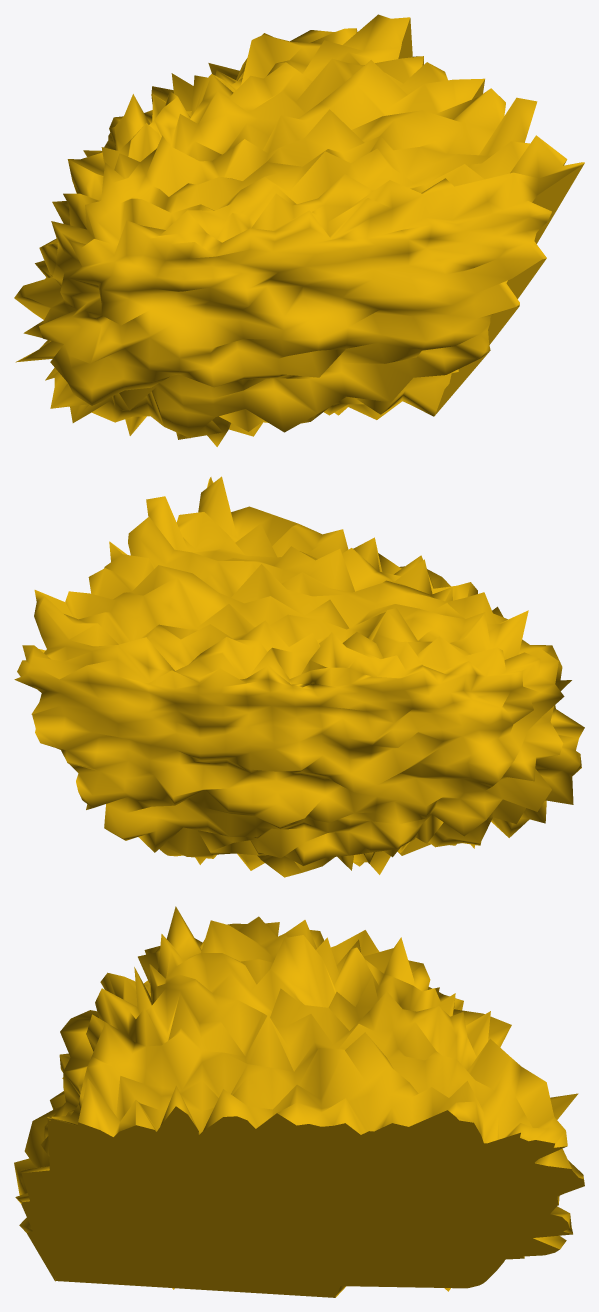
File: 切ったささみ1.fbx
3 views of the same model, one above another, from view 1: azimuth 30°, elevation 25°; view 2: azimuth 150°, elevation 25°; view 3: azimuth 270°, elevation 25° (orthographic). The views are drawn at different scales.
Visible parts, largest first — view 1: 平面.007; view 2: 平面.007; view 3: 平面.007.
Part boxes in pixels (x1,y1,x2,y2): 平面.007: [14, 14, 584, 446]; 平面.007: [14, 476, 584, 877]; 平面.007: [14, 906, 584, 1297].
Bounding box in the file's own units: 0.7906 × 0.4366 × 0.7497.
